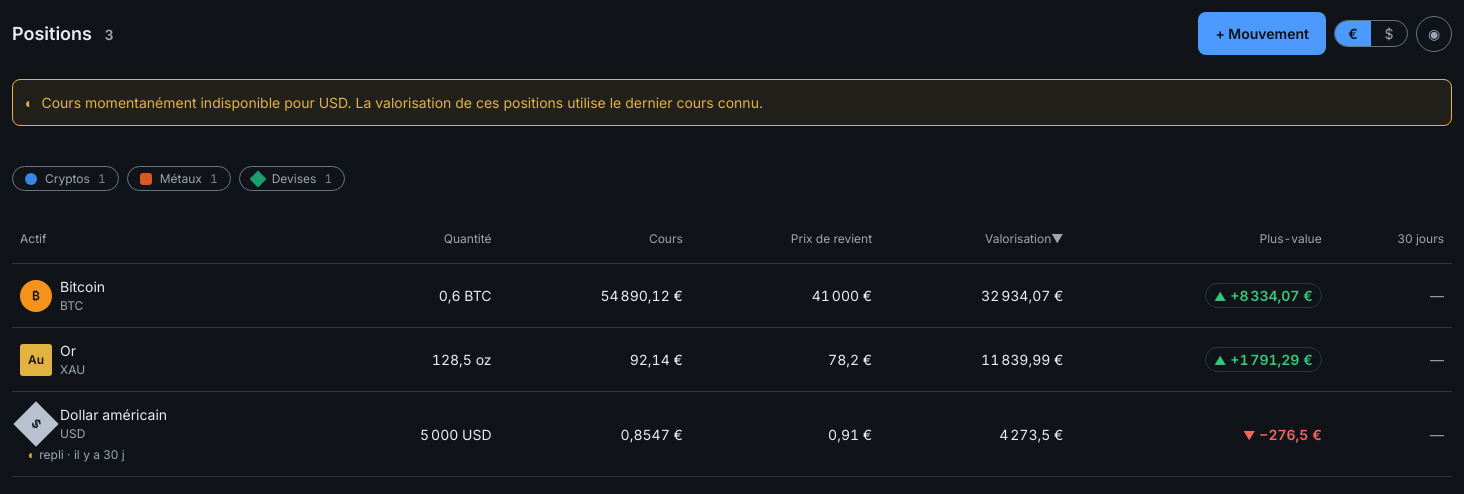
it: filtres par classe › cumule les filtres et les inscrit dans l'adresse
expect the table is shown: met, box [12, 215, 1452, 477]
Click the button "Cryptos 1" at (65, 178), box [12, 166, 119, 191]
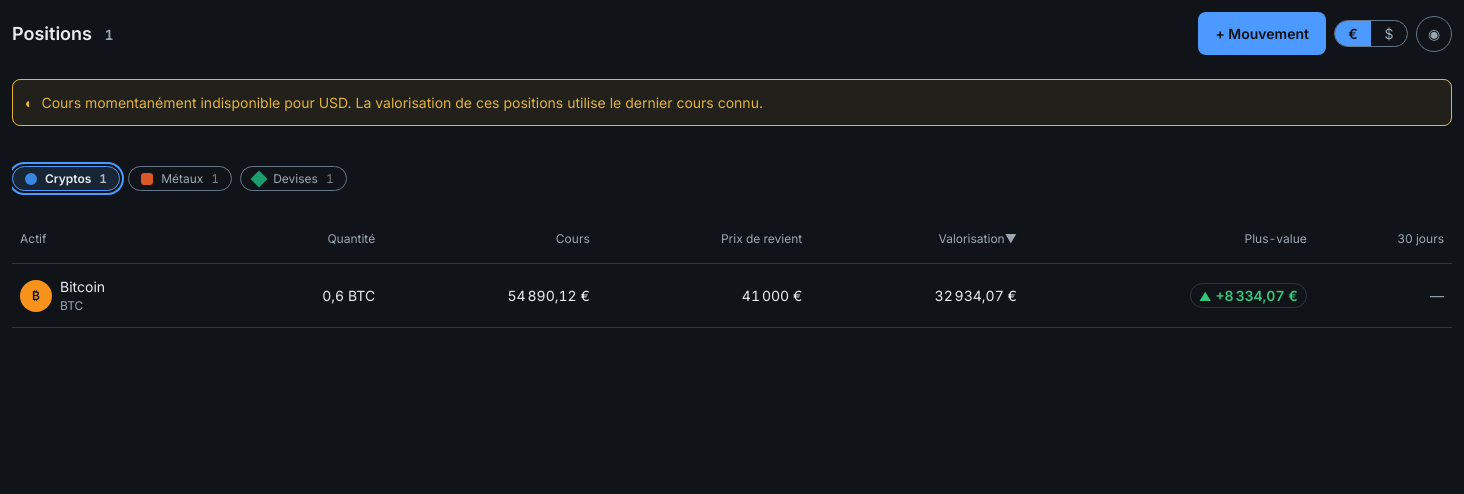
Click the button "Métaux 1" at (180, 178), box [128, 166, 232, 191]
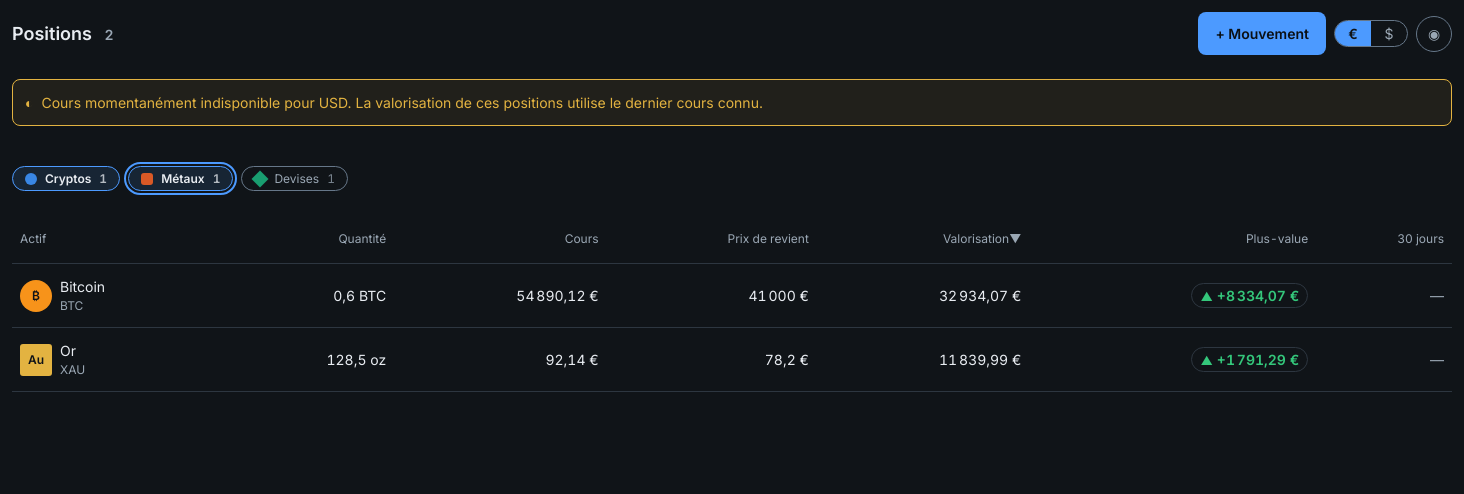
expect the number of links is 2: met, box [19, 278, 105, 313]; [19, 342, 85, 377]
